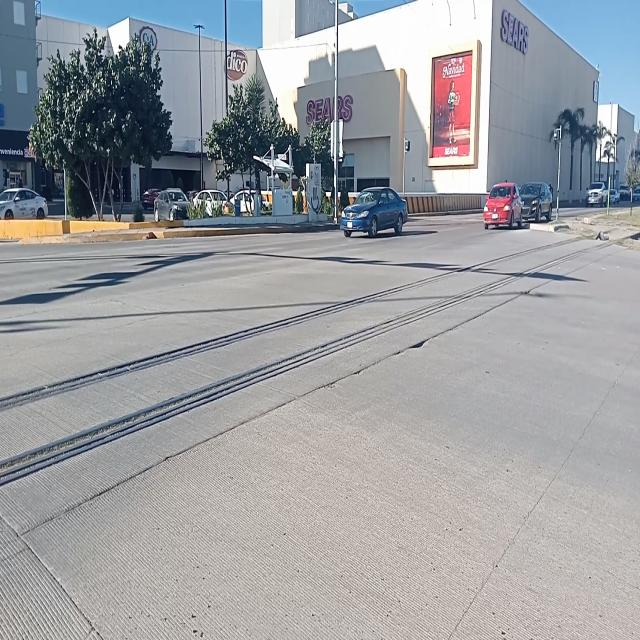Auto: (341, 179, 409, 239), (485, 182, 522, 228)
